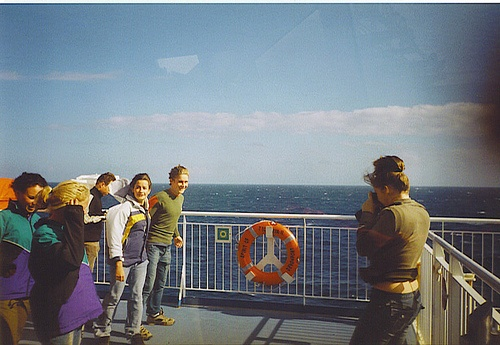head: (5, 170, 49, 216), (372, 157, 412, 207), (129, 172, 154, 204), (169, 164, 190, 196)
person: (328, 155, 430, 343), (23, 178, 102, 344), (83, 173, 154, 343), (1, 172, 48, 343), (141, 163, 187, 326), (82, 172, 119, 279)
